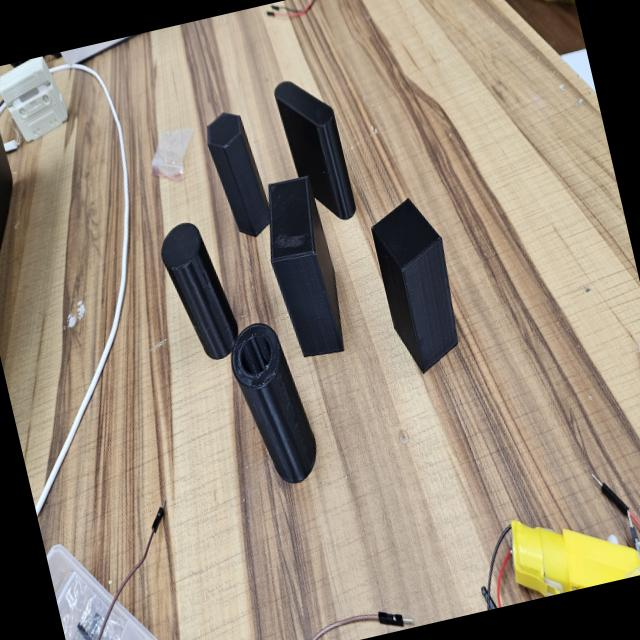circle: (159, 217, 204, 274)
hexagon: (205, 108, 244, 152)
oval: (270, 76, 336, 130)
rectangle: (268, 177, 315, 265)
ring: (226, 321, 285, 391)
square: (370, 196, 441, 273)
